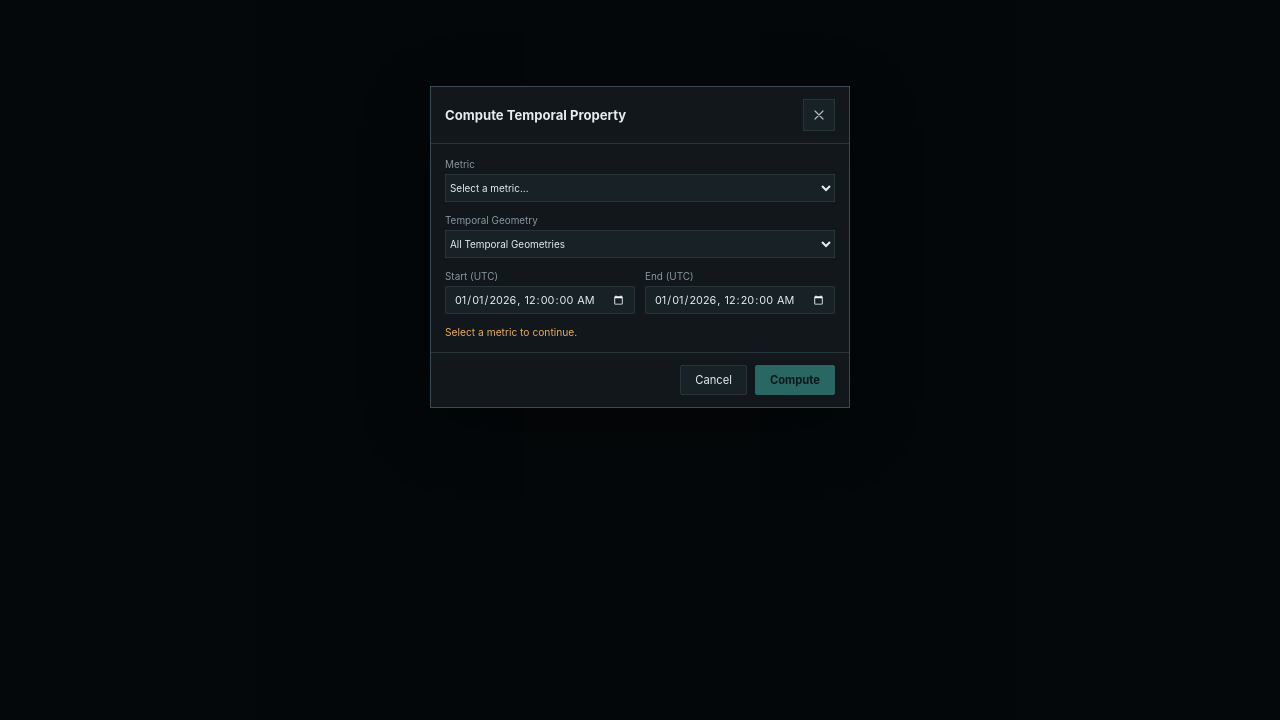
Scenario: ComputeTemporalPropertyDialog › disables Compute until a metric is chosen, with a concise reason shown
Expected: the button "Compute" is disabled, [755,365,835,395]
Expected: the text "Select a metric to continue." is shown, [445,326,577,338]
Select "Velocity" in the dropdown labelled "Metric" at point(640, 188), box [445,174,835,202]
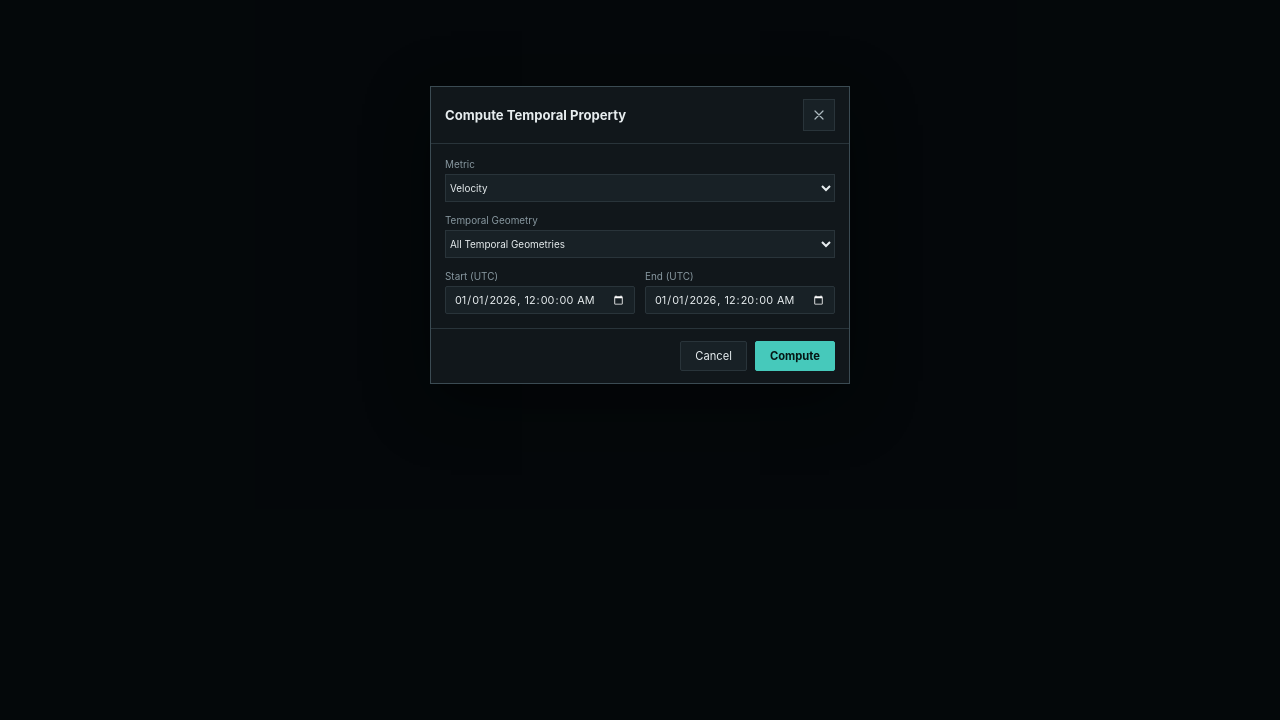
Result: the button "Compute" is enabled at [755,341,835,371]
